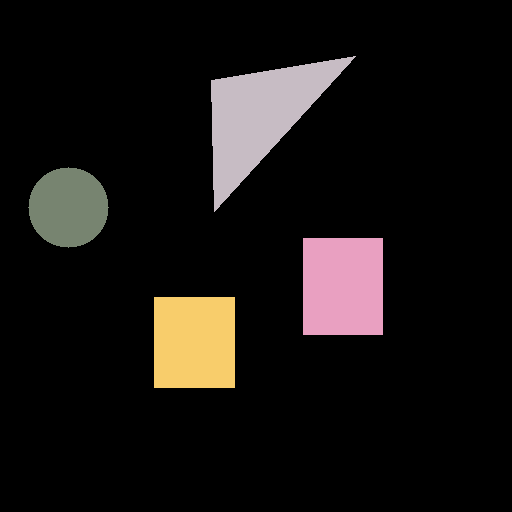circle: (28, 167, 108, 247)
rectangle: (303, 238, 382, 334), (154, 297, 234, 387)
triangle: (211, 56, 355, 211)
